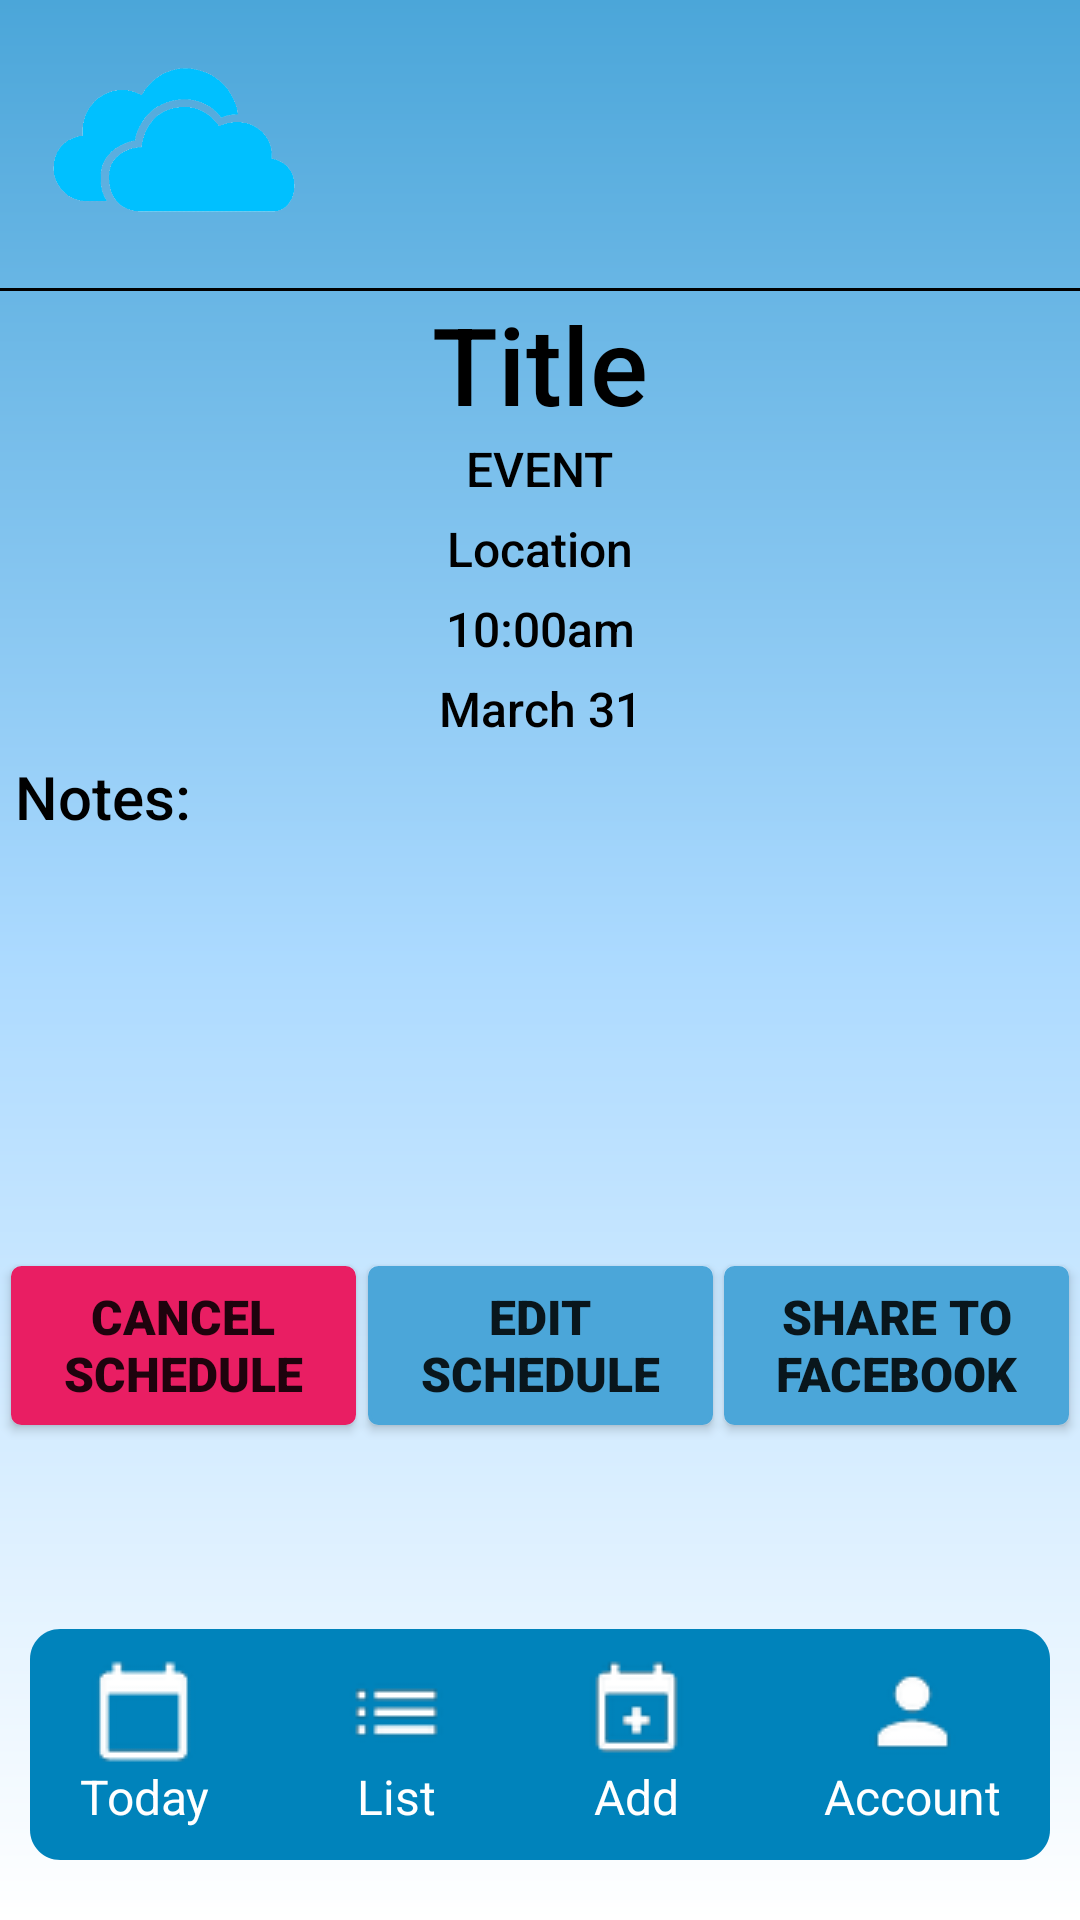

Icons on this 1080×1920 Android screen, each with the point to tap as point (x, y):
options calendar: point (143, 1711)
